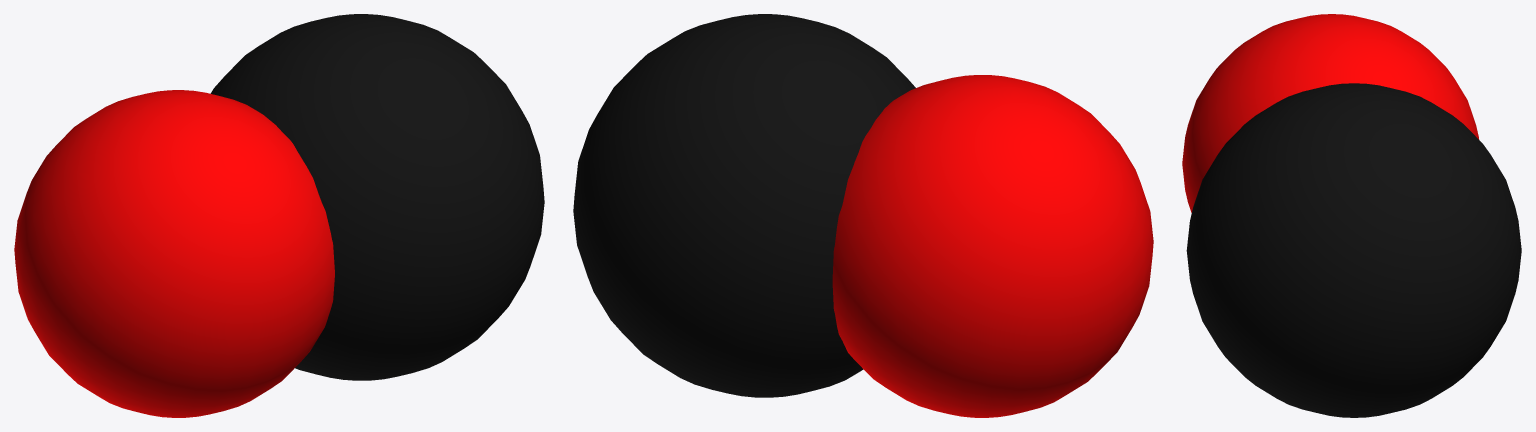
3 views of the same model, side by side, from view 1: azimuth 30°, elevation 25°; view 2: azimuth 150°, elevation 25°; view 3: azimuth 270°, elevation 25° (orthographic). The views are drawn at different scales.
Parts seen in each view (by area): view 1: Sphere004, Sphere003; view 2: Sphere003, Sphere004; view 3: Sphere003, Sphere004.
Part boxes in pixels (left/top/right/bottom): Sphere004: left=14, top=90, right=334, bottom=417; Sphere003: left=210, top=14, right=544, bottom=380; Sphere003: left=573, top=14, right=915, bottom=397; Sphere004: left=832, top=75, right=1153, bottom=417; Sphere003: left=1186, top=83, right=1521, bottom=417; Sphere004: left=1182, top=14, right=1479, bottom=212.
Size of the model in its own units: 20.9 by 13.39 by 13.57.
